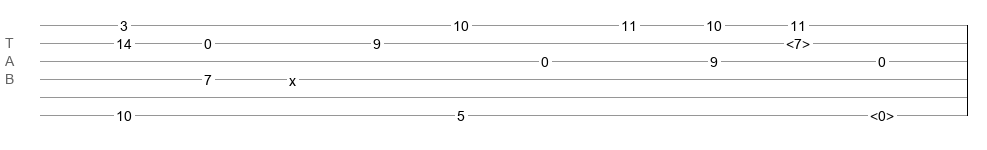0: (204, 36, 212, 46), (541, 54, 549, 64), (878, 54, 886, 64)
10: (116, 108, 132, 118), (453, 18, 469, 28), (706, 18, 722, 28)
11: (621, 18, 637, 28), (790, 18, 806, 28)
14: (116, 36, 132, 46)
3: (120, 18, 128, 28)
5: (457, 108, 465, 118)
7: (204, 72, 212, 82)
9: (373, 36, 381, 46), (710, 54, 718, 64)
harmonic: (786, 36, 810, 46), (870, 108, 894, 118)
x: (289, 73, 296, 81)
